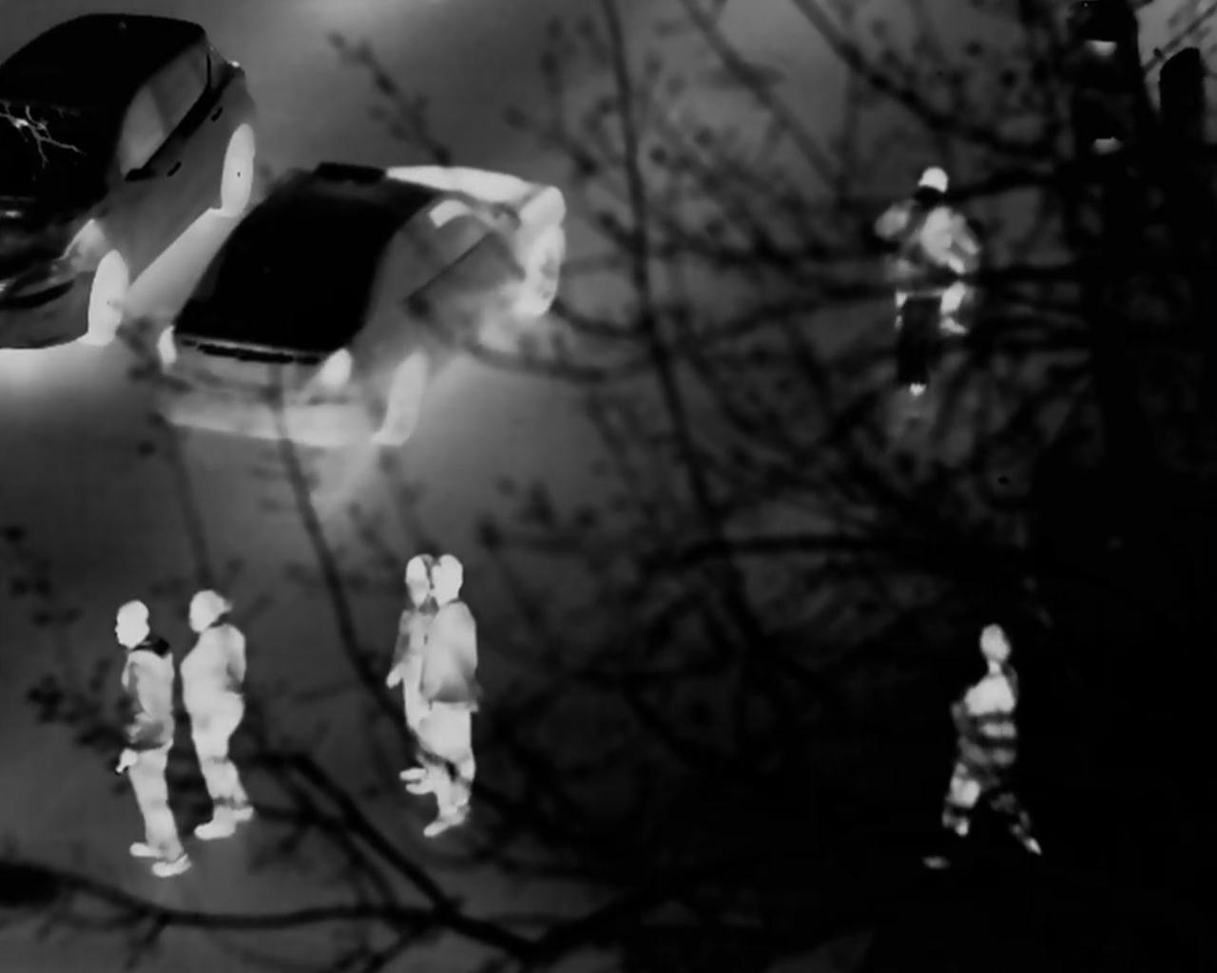person: (107, 600, 191, 867), (169, 579, 256, 834), (422, 552, 486, 833), (883, 168, 966, 380), (396, 555, 462, 798), (955, 615, 1015, 828)
